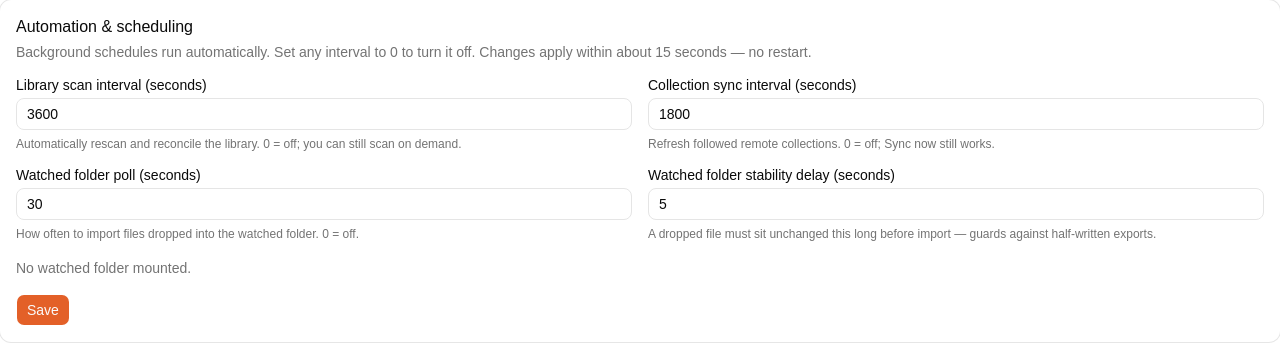
it: AutomationCard › M2: blocks save with an inline error when a non-integer is typed into an int field
Replace the text in the number field labelled "Collection sync interval (seconds)" with "12.5" at x=956, y=114, box [648,98,1264,130]
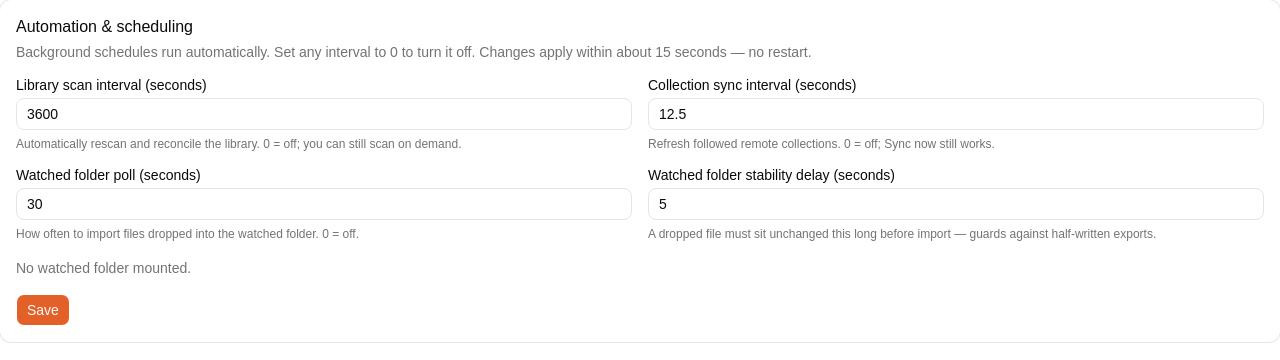
Click the button "Save".
click(43, 310)  # box [16,294,70,326]
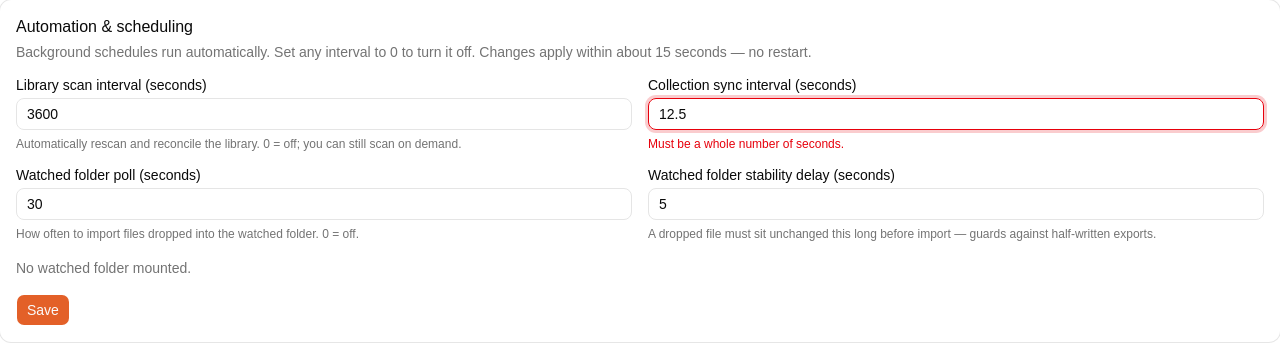
Now the message reads "Must be a whole number of seconds.", box [648,137,844,151]
